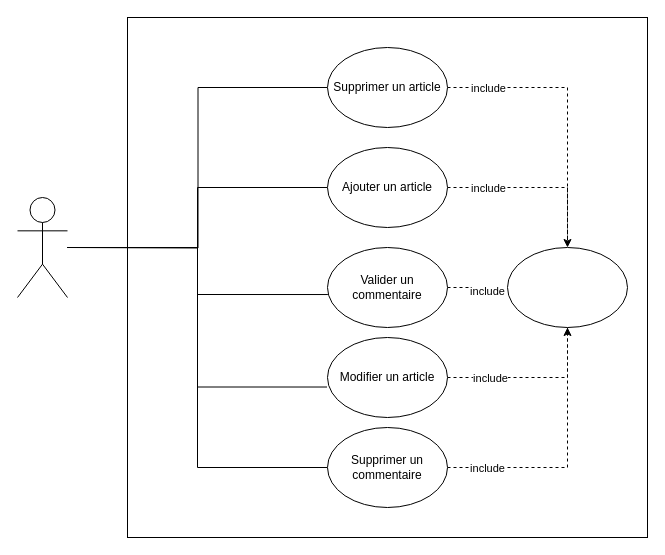
The diagram is 665 pixels wide and 555 high, and some of its shapes have lost their labels. Each missing label, with the centre of its shape:
Admin: pixel 42 247
Authentification: pixel 567 287
